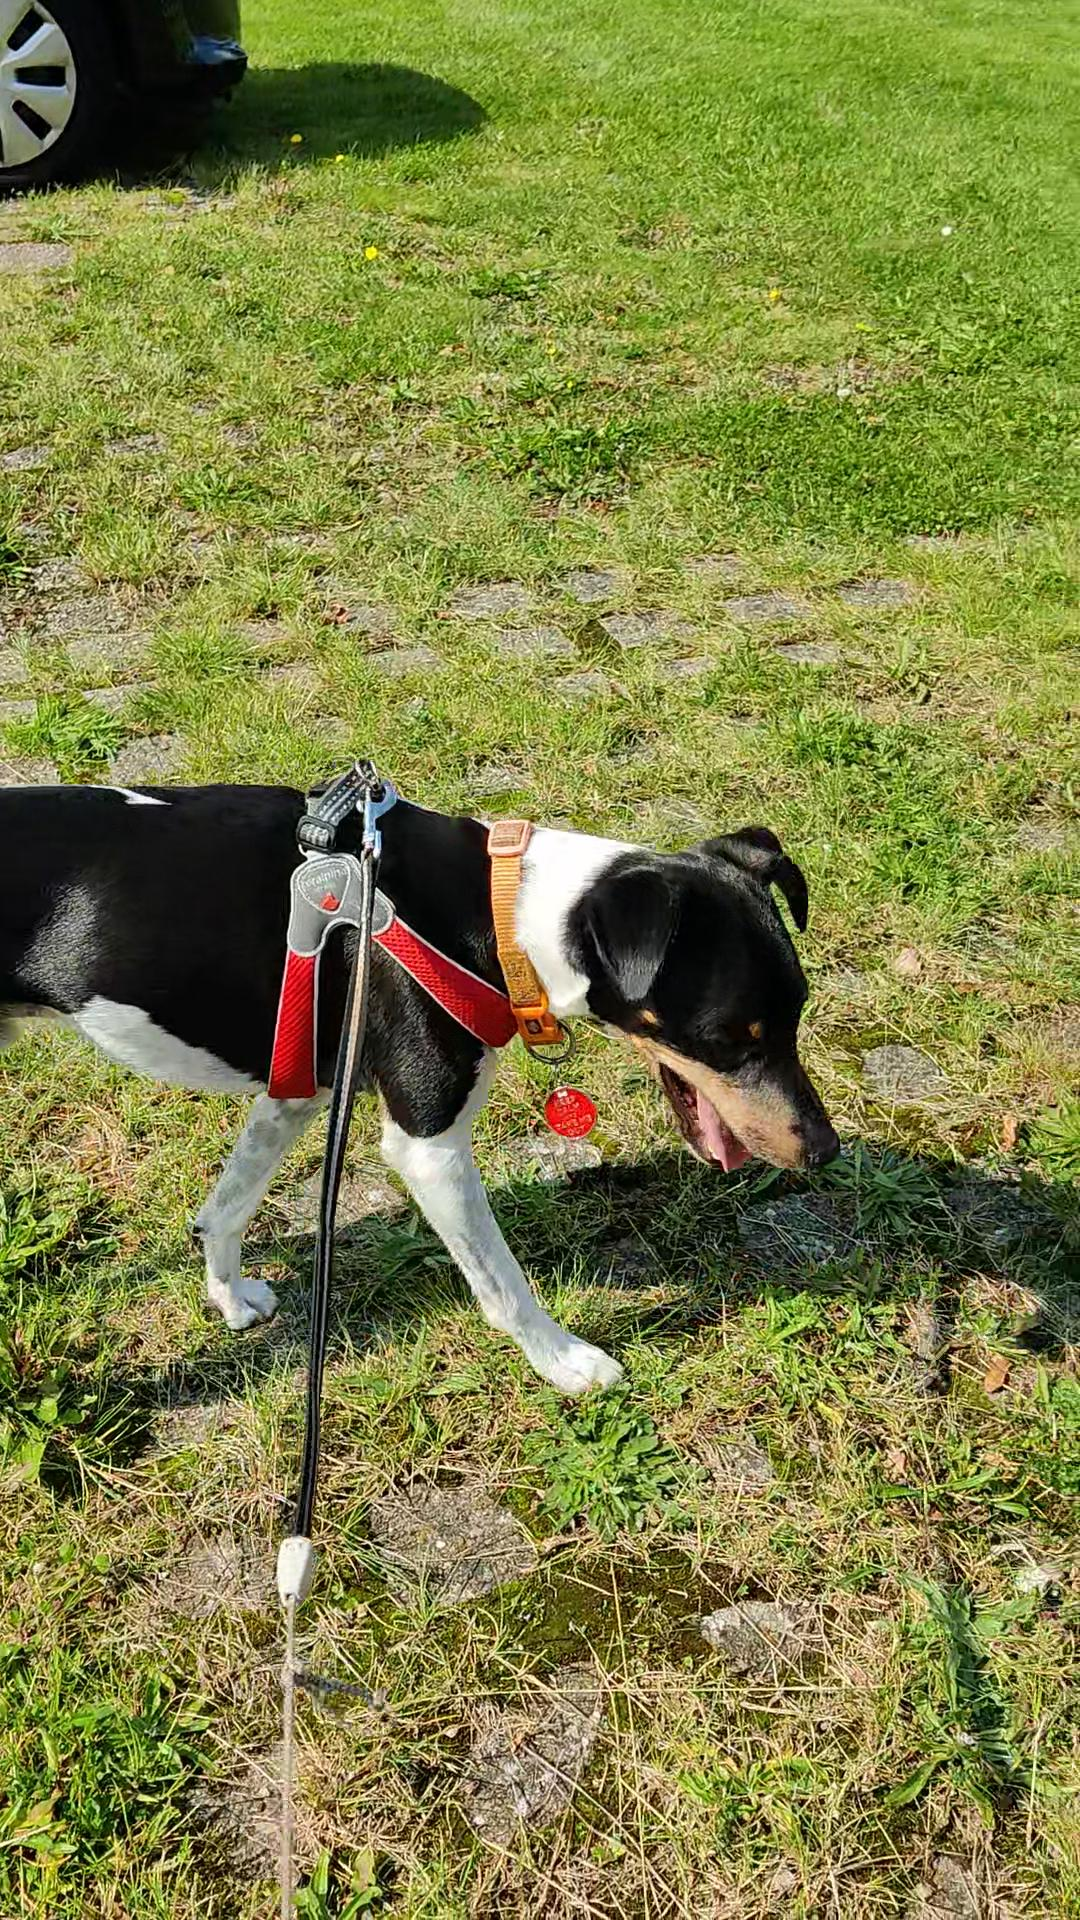Dog: (0, 757, 851, 1375)
